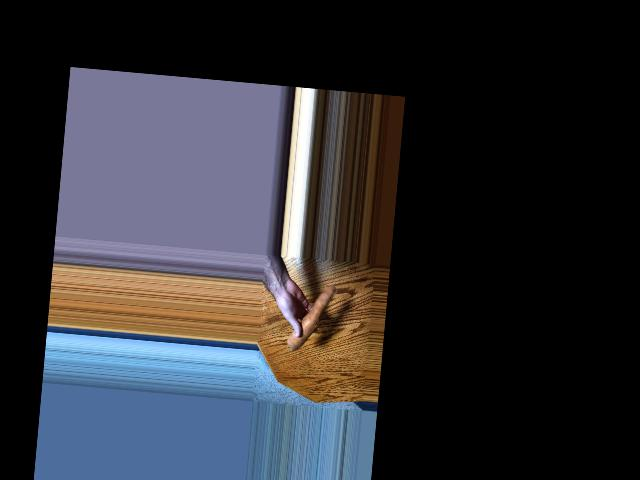sweet_potato: (288, 283, 330, 361)
